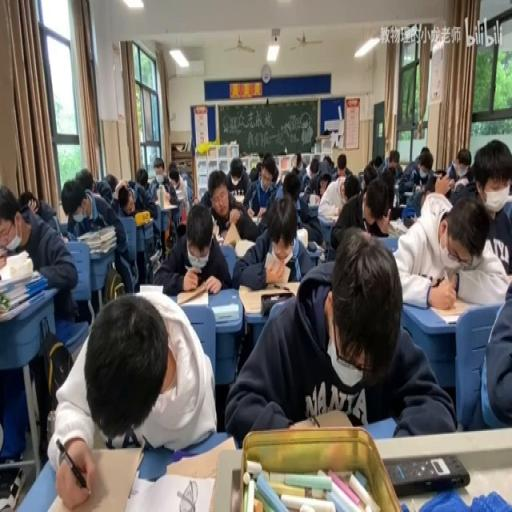calculator: (125, 468, 215, 510), (164, 434, 234, 480), (238, 280, 298, 314), (427, 296, 469, 323), (176, 287, 208, 307), (222, 218, 242, 248), (212, 302, 238, 322), (234, 236, 256, 258), (376, 235, 398, 253), (388, 218, 406, 234), (156, 199, 178, 212), (295, 226, 307, 248), (148, 248, 160, 270), (138, 284, 162, 294), (307, 239, 325, 252), (245, 208, 260, 220), (322, 213, 338, 222), (212, 219, 218, 240), (174, 189, 184, 201), (308, 194, 318, 206), (278, 170, 286, 184), (215, 233, 224, 245), (146, 175, 156, 183), (404, 190, 414, 198), (59, 235, 68, 243), (398, 202, 406, 209)
paper: (226, 229, 446, 442), (51, 290, 217, 509), (0, 184, 77, 462), (390, 192, 507, 309), (63, 174, 130, 302), (458, 270, 509, 432), (230, 192, 313, 289), (153, 198, 230, 294), (330, 174, 388, 252), (126, 172, 160, 256), (397, 145, 435, 205), (434, 148, 473, 200), (0, 192, 27, 263), (19, 186, 58, 229), (167, 162, 190, 222), (224, 155, 250, 202), (294, 155, 310, 189), (384, 148, 403, 176), (77, 168, 94, 195), (343, 175, 359, 200), (152, 158, 166, 186), (283, 180, 299, 204), (104, 171, 119, 195), (362, 162, 375, 189), (136, 166, 149, 190), (249, 164, 261, 184), (336, 154, 346, 176), (270, 161, 280, 182), (117, 190, 127, 210), (322, 155, 334, 171), (420, 145, 430, 161), (309, 160, 318, 176), (373, 155, 382, 169), (414, 154, 421, 164)
person: (384, 452, 470, 496), (0, 465, 25, 511), (403, 214, 416, 228), (264, 282, 290, 288), (434, 168, 446, 178)
